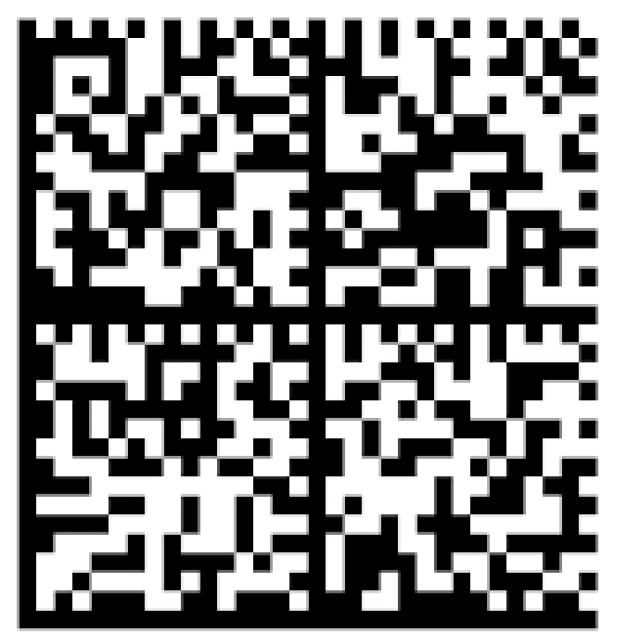datamatrix: (8, 12, 607, 637)
